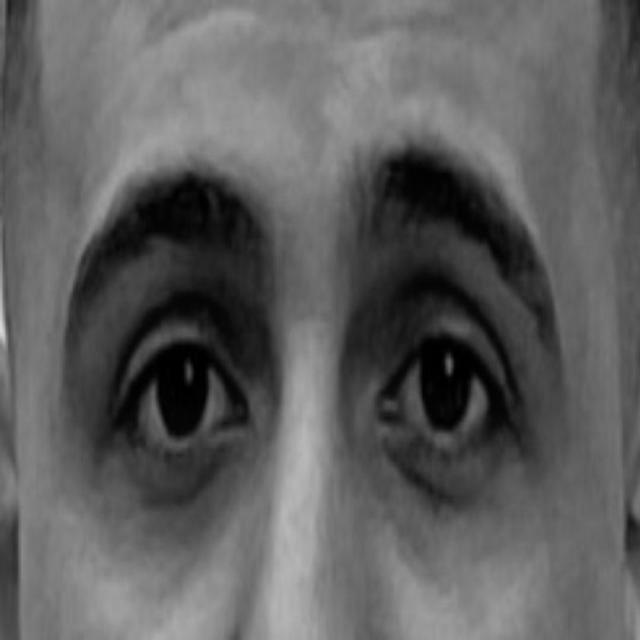real: (75, 196, 570, 568)
